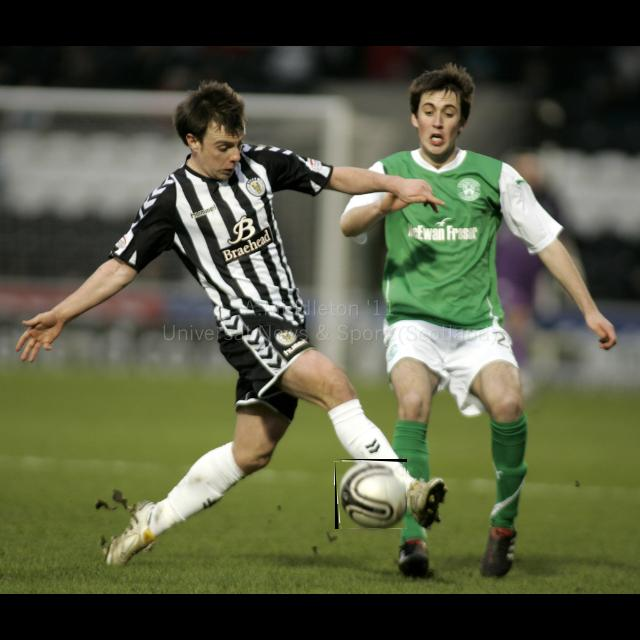Football: (335, 459, 407, 529)
